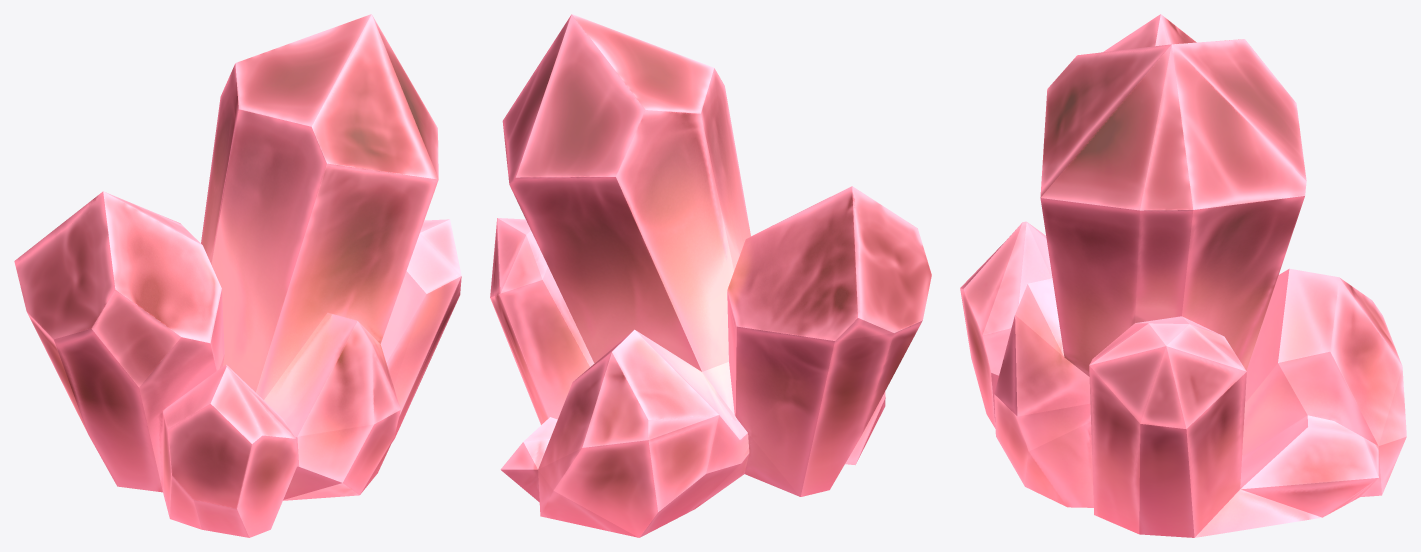
Rendered from crystal_red.fbx.
3 views of the same model, side by side, from view 1: azimuth 30°, elevation 25°; view 2: azimuth 150°, elevation 25°; view 3: azimuth 270°, elevation 25° (orthographic). The views are drawn at different scales.
Parts seen in each view (by area): view 1: crystal_red; view 2: crystal_red; view 3: crystal_red.
Part boxes in pixels (x1=…): crystal_red: x1=14, y1=14, x2=461, y2=537; crystal_red: x1=490, y1=14, x2=931, y2=537; crystal_red: x1=960, y1=14, x2=1406, y2=537.
Bounding box in the file's own units: 1.66 × 1.62 × 1.35.
